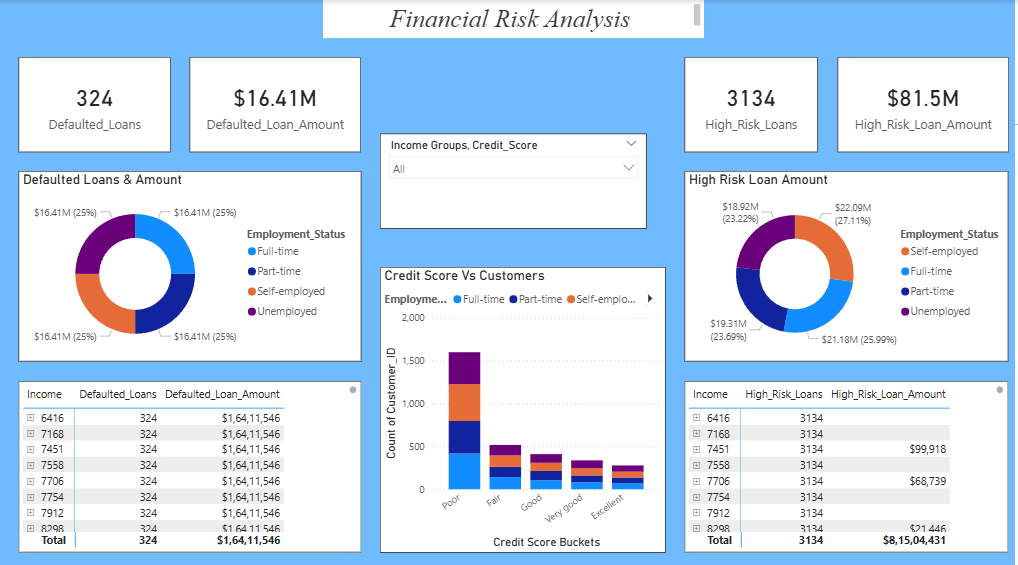

The page's visual inventory and layout, read from the dashboard file:
{"tool":"powerbi","page":{"name":"Financial Risk Analysis","canvas":[1280,720],"ordinal":2},"visuals":[{"type":"card","fields":{"Values":["Analysis.Defaulted_Loans"]},"box":[24,72,192,120],"z":0},{"type":"textbox","box":[408,0,480,48],"z":1},{"type":"card","fields":{"Values":["Analysis.Defaulted_Loan_Amount"]},"box":[240,72,216,120],"z":2},{"type":"card","fields":{"Values":["Analysis.High_Risk_Loans"]},"box":[864,72,168,120],"z":3},{"type":"card","fields":{"Values":["Analysis.High_Risk_Loan_Amount"]},"box":[1056,72,216,120],"z":4},{"type":"slicer","fields":{"Values":["Customer_Details.Income Group","Customer_Details.Credit_Score"]},"box":[480,168,336,120],"z":5},{"type":"donutChart","title":"Defaulted Loans & Amount","fields":{"Category":["Customer_Details.Employment_Status"],"Y":["Analysis.Defaulted_Loan_Amount"]},"box":[24,216,432,240],"z":6},{"type":"pivotTable","fields":{"Rows":["Customer_Details.Income","Customer_Details.Education_Level"],"Values":["Analysis.Defaulted_Loans","Analysis.Defaulted_Loan_Amount"]},"box":[24,480,432,216],"z":7},{"type":"donutChart","title":"High Risk Loan Amount","fields":{"Category":["Customer_Details.Employment_Status"],"Y":["Analysis.High_Risk_Loan_Amount"]},"box":[864,216,408,240],"z":8},{"type":"pivotTable","fields":{"Rows":["Customer_Details.Income","Customer_Details.Education_Level"],"Values":["Analysis.High_Risk_Loans","Analysis.High_Risk_Loan_Amount"]},"box":[864,480,408,216],"z":9},{"type":"columnChart","title":"Credit Score Vs Customers","fields":{"Category":["Customer_Details.Credit Score Bucket"],"Series":["Customer_Details.Employment_Status"],"Y":["CountNonNull(Customer_Details.Customer_ID)"]},"box":[480,336,360,360],"z":10}]}

Visuals, with their boxes in screenshot pixels (x1, y1, x2, y2), scaled from the page's 1280x720 canvas onto the 1018x565 screenshot:
card - Analysis.Defaulted_Loans: region(19, 56, 172, 151)
textbox: region(324, 0, 706, 38)
card - Analysis.Defaulted_Loan_Amount: region(191, 56, 363, 151)
card - Analysis.High_Risk_Loans: region(687, 56, 821, 151)
card - Analysis.High_Risk_Loan_Amount: region(840, 56, 1012, 151)
slicer - Customer_Details.Income Group x Customer_Details.Credit_Score: region(382, 132, 649, 226)
"Defaulted Loans & Amount" donutChart: region(19, 170, 363, 358)
pivotTable - Customer_Details.Income x Customer_Details.Education_Level: region(19, 377, 363, 546)
"High Risk Loan Amount" donutChart: region(687, 170, 1012, 358)
pivotTable - Customer_Details.Income x Customer_Details.Education_Level: region(687, 377, 1012, 546)
"Credit Score Vs Customers" columnChart: region(382, 264, 668, 546)
